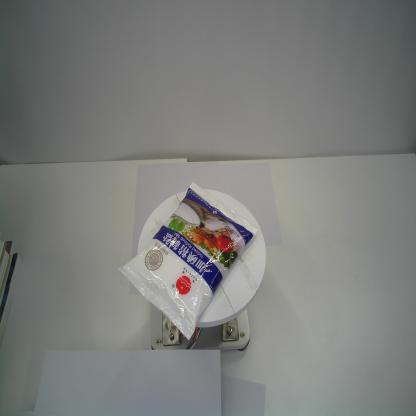Seasoner: (117, 182, 259, 340)
